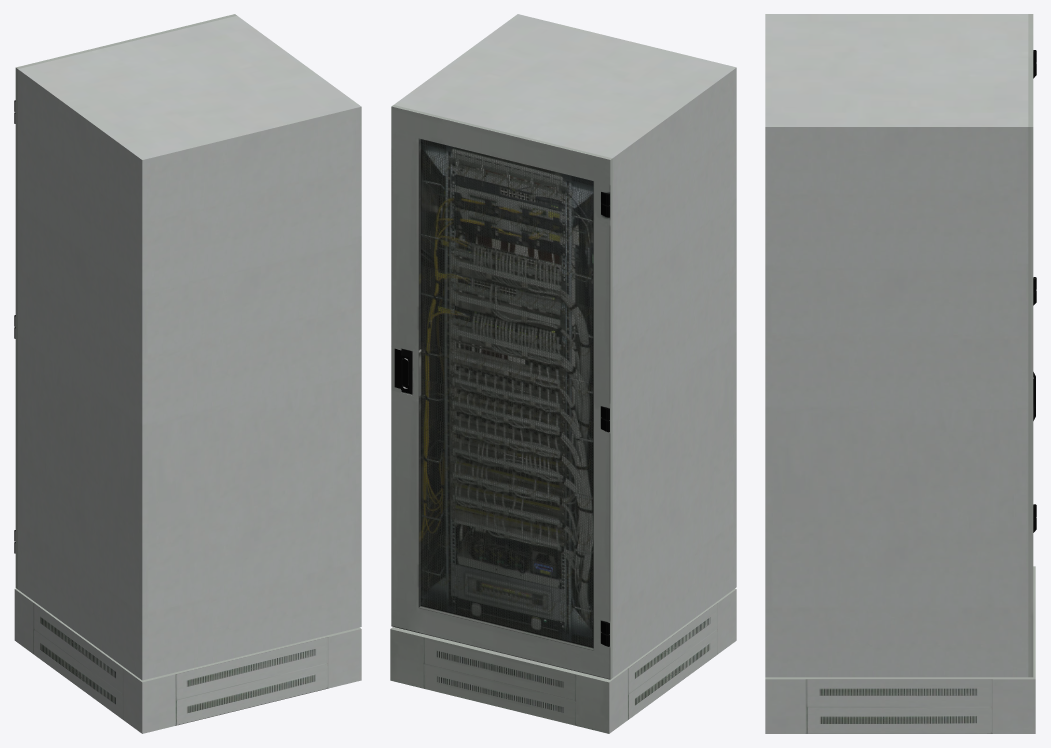
The model's file is set1.gltf.
The picture shows the model from 3 angles, left to right: view 1: azimuth 30°, elevation 25°; view 2: azimuth 150°, elevation 25°; view 3: azimuth 270°, elevation 25°; orthographic projection. The views are drawn at different scales.
Visible parts, largest first — view 1: set1; view 2: set1; view 3: set1.
Part boxes in pixels (box(x1,y1,x2,y2)): set1: box(14, 14, 361, 733); set1: box(390, 14, 736, 733); set1: box(765, 14, 1036, 733).
Size of the model in its own units: 0.0204 by 0.0508 by 0.0206.
Materials: 1 (1 with a texture image).
